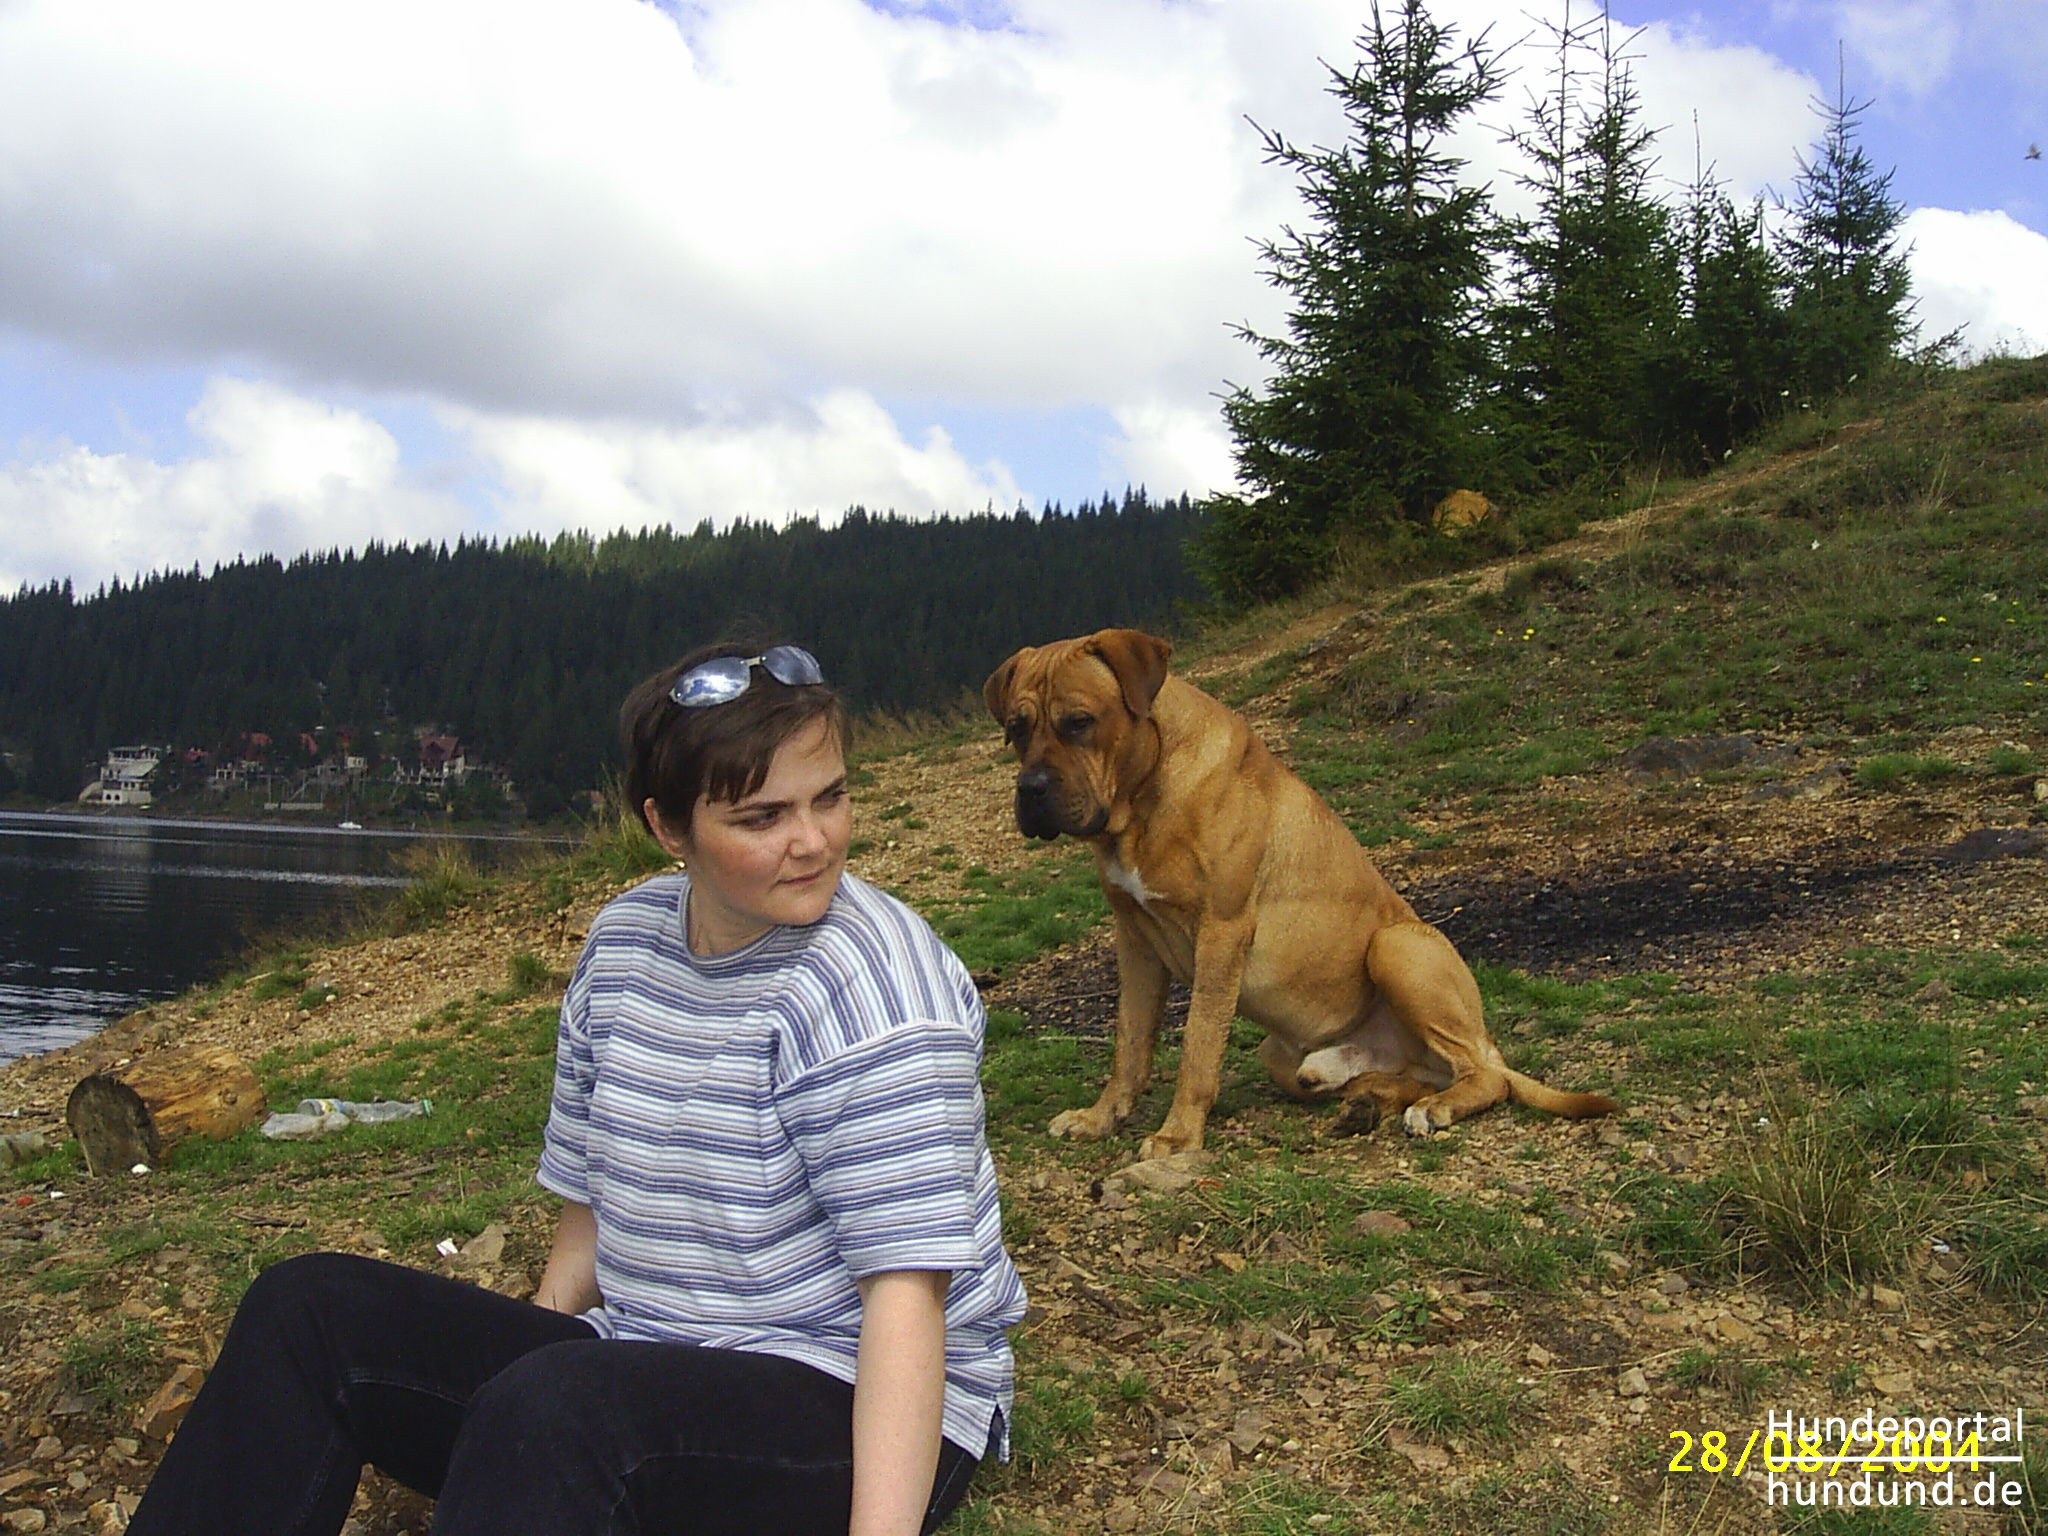human_face: (641, 735, 858, 930)
person: (126, 637, 1026, 1533)
tosa_inu: (979, 628, 1630, 1160)
